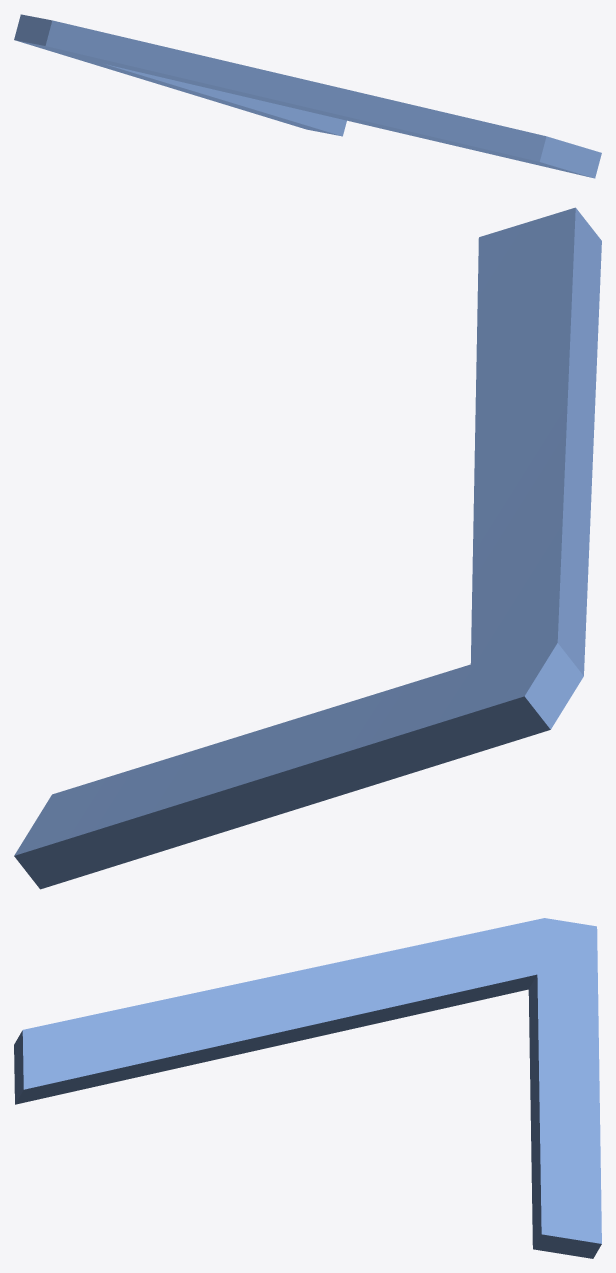
The model's file is New_Number_7.gltf.
3 renders of one model, top to bottom at view 1: azimuth 30°, elevation 25°; view 2: azimuth 150°, elevation 25°; view 3: azimuth 270°, elevation 25°, orthographic. The views are drawn at different scales.
Visible parts, largest first — view 1: Part 700; view 2: Part 700; view 3: Part 700.
Boxes of the visible parts, x1,y1,x2,y2 form: Part 700: [14, 14, 601, 178]; Part 700: [14, 207, 601, 889]; Part 700: [14, 918, 601, 1258].
Bounding box in the file's own units: 0.00346 × 0.00214 × 0.00541.
